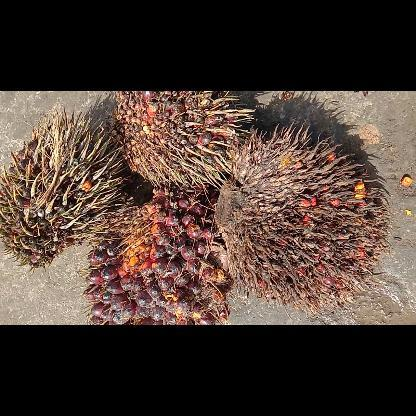Kurang masak: (0, 108, 126, 266)
TBS abnormal: (215, 126, 391, 314), (116, 92, 252, 186)
Terlalu masak: (82, 190, 232, 324)
